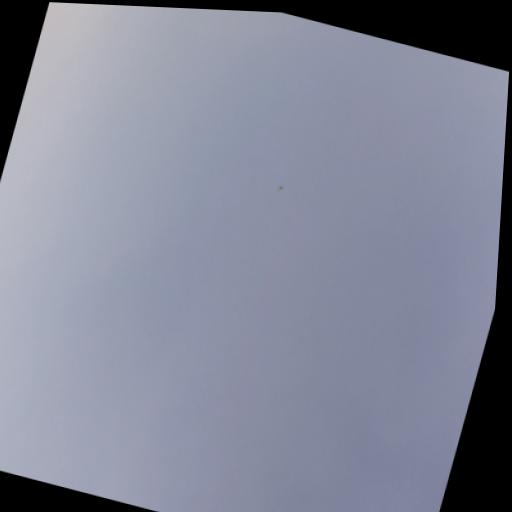drones: (273, 181, 286, 196)
